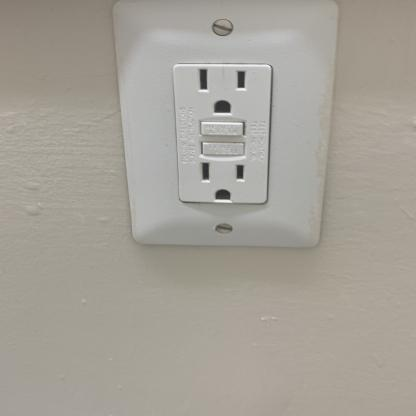OUTLET: (116, 0, 334, 246)
